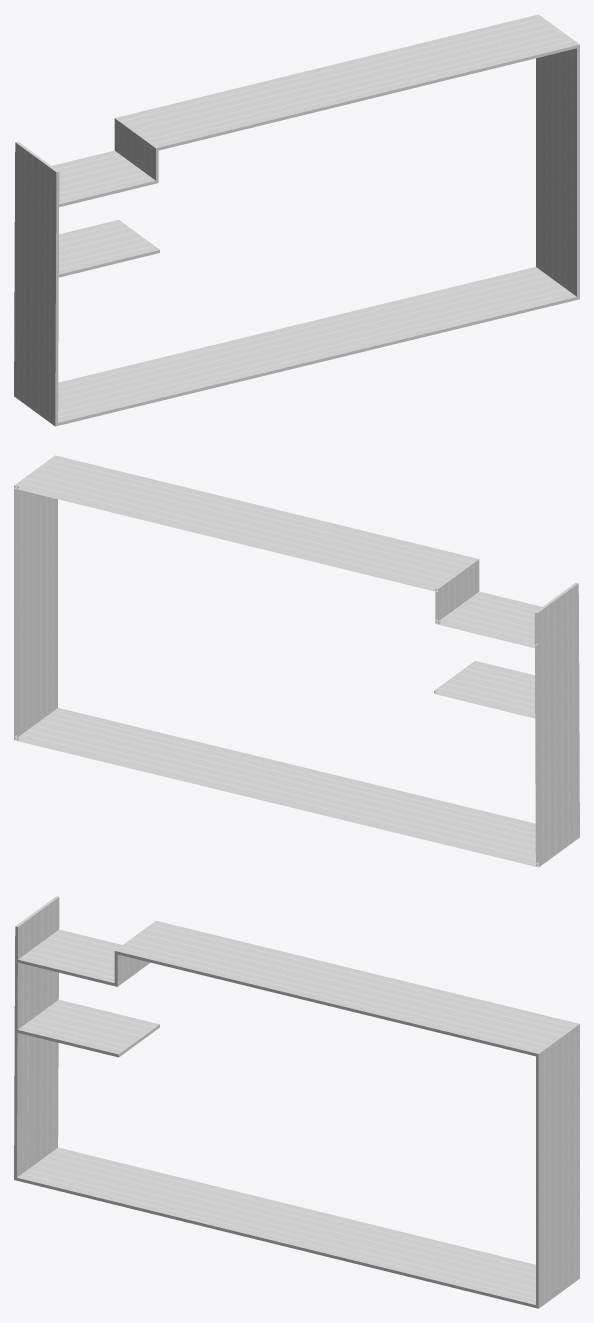
File: wall_1.obj
The picture shows the model from 3 angles, top to bottom: view 1: azimuth 30°, elevation 25°; view 2: azimuth 150°, elevation 25°; view 3: azimuth 330°, elevation 25°; orthographic projection.
Parts seen in each view (by area): view 1: walls; view 2: walls; view 3: walls.
Boxes of the visible parts, x1,y1,x2,y2 form: walls: [14, 14, 579, 426]; walls: [14, 455, 579, 867]; walls: [14, 896, 579, 1308].
Bounding box in the file's own units: 18.36 × 8.52 × 2.5.
